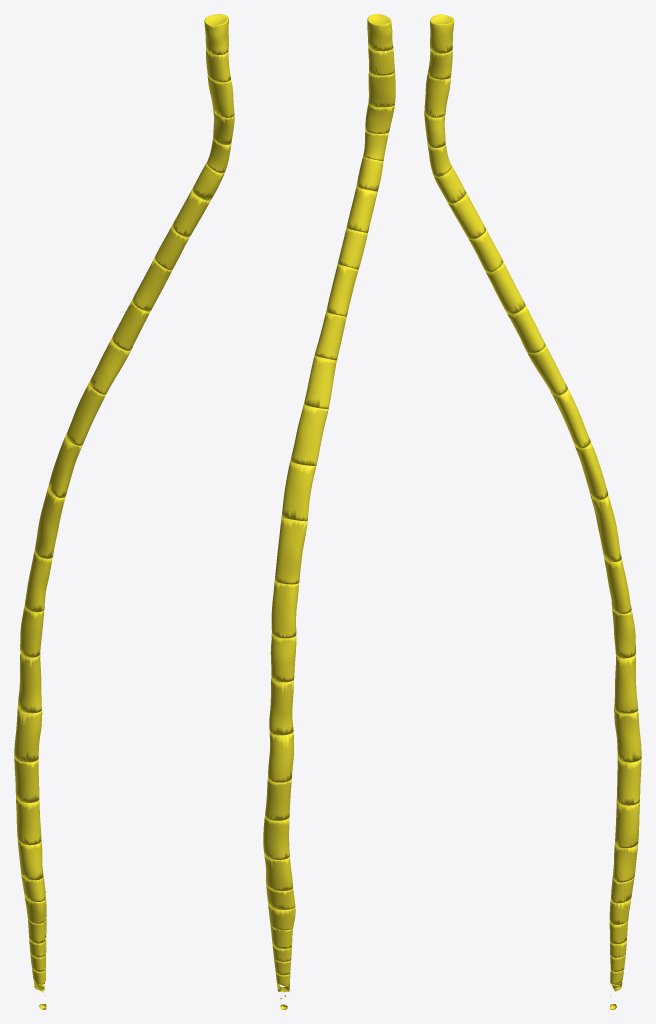
File: 3d-vh-f-spinal-cord_lod_20.glb
3 renders of one model, left to right at view 1: azimuth 90°, elevation 25°; view 2: azimuth 150°, elevation 25°; view 3: azimuth 270°, elevation 25°, orthographic. The views are drawn at different scales.
Visible parts, largest first — view 1: VH_F_sixth_thoracic_spinal_cord_segment, VH_F_ninth_thoracic_spinal_cord_segment, VH_F_tenth_thoracic_spinal_cord_segment, VH_F_fourth_thoracic_spinal_cord_segment, VH_F_third_thoracic_spinal_cord_segment, VH_F_seventh_thoracic_spinal_cord_segment, VH_F_fifth_thoracic_spinal_cord_segment, VH_F_first_thoracic_spinal_cord_segment, VH_F_twelfth_thoracic_spinal_cord_segment, VH_F_second_thoracic_spinal_cord_segment, VH_F_eigth_thoracic_spinal_cord_segment, VH_F_eleventh_thoracic_spinal_cord_segment (+9 smaller); view 2: VH_F_sixth_thoracic_spinal_cord_segment, VH_F_fourth_thoracic_spinal_cord_segment, VH_F_fifth_thoracic_spinal_cord_segment, VH_F_seventh_thoracic_spinal_cord_segment, VH_F_ninth_thoracic_spinal_cord_segment, VH_F_third_thoracic_spinal_cord_segment, VH_F_tenth_thoracic_spinal_cord_segment, VH_F_eigth_thoracic_spinal_cord_segment, VH_F_first_thoracic_spinal_cord_segment, VH_F_twelfth_thoracic_spinal_cord_segment, VH_F_second_thoracic_spinal_cord_segment, VH_F_C7_segment_of_cervical_spinal_cord (+12 smaller); view 3: VH_F_ninth_thoracic_spinal_cord_segment, VH_F_tenth_thoracic_spinal_cord_segment, VH_F_sixth_thoracic_spinal_cord_segment, VH_F_eleventh_thoracic_spinal_cord_segment, VH_F_twelfth_thoracic_spinal_cord_segment, VH_F_first_thoracic_spinal_cord_segment, VH_F_fourth_thoracic_spinal_cord_segment, VH_F_seventh_thoracic_spinal_cord_segment, VH_F_fifth_thoracic_spinal_cord_segment, VH_F_eigth_thoracic_spinal_cord_segment, VH_F_second_thoracic_spinal_cord_segment, VH_F_third_thoracic_spinal_cord_segment (+9 smaller).
Boxes of the visible parts, x1,y1,x2,y2 form: VH_F_sixth_thoracic_spinal_cord_segment: (34, 487, 65, 558); VH_F_ninth_thoracic_spinal_cord_segment: (17, 653, 41, 713); VH_F_tenth_thoracic_spinal_cord_segment: (14, 708, 42, 762); VH_F_fourth_thoracic_spinal_cord_segment: (66, 382, 105, 445); VH_F_third_thoracic_spinal_cord_segment: (89, 339, 130, 394); VH_F_seventh_thoracic_spinal_cord_segment: (24, 551, 52, 612); VH_F_fifth_thoracic_spinal_cord_segment: (48, 435, 82, 498); VH_F_first_thoracic_spinal_cord_segment: (132, 258, 172, 311); VH_F_twelfth_thoracic_spinal_cord_segment: (16, 798, 41, 845); VH_F_second_thoracic_spinal_cord_segment: (111, 300, 150, 350); VH_F_eigth_thoracic_spinal_cord_segment: (20, 606, 44, 657); VH_F_eleventh_thoracic_spinal_cord_segment: (14, 757, 39, 802); VH_F_sixth_thoracic_spinal_cord_segment: (274, 517, 307, 584); VH_F_fourth_thoracic_spinal_cord_segment: (290, 404, 328, 465); VH_F_fifth_thoracic_spinal_cord_segment: (281, 461, 316, 521); VH_F_seventh_thoracic_spinal_cord_segment: (271, 581, 299, 638); VH_F_ninth_thoracic_spinal_cord_segment: (269, 678, 293, 735); VH_F_third_thoracic_spinal_cord_segment: (304, 355, 336, 408); VH_F_tenth_thoracic_spinal_cord_segment: (267, 731, 293, 782); VH_F_eigth_thoracic_spinal_cord_segment: (270, 634, 296, 682); VH_F_first_thoracic_spinal_cord_segment: (326, 264, 358, 316); VH_F_twelfth_thoracic_spinal_cord_segment: (263, 817, 289, 859); VH_F_second_thoracic_spinal_cord_segment: (314, 312, 346, 360); VH_F_C7_segment_of_cervical_spinal_cord: (346, 187, 377, 232); VH_F_ninth_thoracic_spinal_cord_segment: (614, 654, 638, 713); VH_F_tenth_thoracic_spinal_cord_segment: (614, 708, 641, 762); VH_F_sixth_thoracic_spinal_cord_segment: (590, 494, 621, 561); VH_F_eleventh_thoracic_spinal_cord_segment: (617, 756, 641, 805); VH_F_twelfth_thoracic_spinal_cord_segment: (615, 799, 639, 848); VH_F_first_thoracic_spinal_cord_segment: (486, 262, 525, 314); VH_F_fourth_thoracic_spinal_cord_segment: (551, 388, 590, 448); VH_F_seventh_thoracic_spinal_cord_segment: (604, 559, 631, 613); VH_F_fifth_thoracic_spinal_cord_segment: (575, 441, 607, 500); VH_F_eigth_thoracic_spinal_cord_segment: (612, 607, 635, 658); VH_F_second_thoracic_spinal_cord_segment: (507, 305, 545, 353); VH_F_third_thoracic_spinal_cord_segment: (528, 345, 567, 395).
Bounding box in the file's own units: 0.0179 × 0.4088 × 0.0819.
